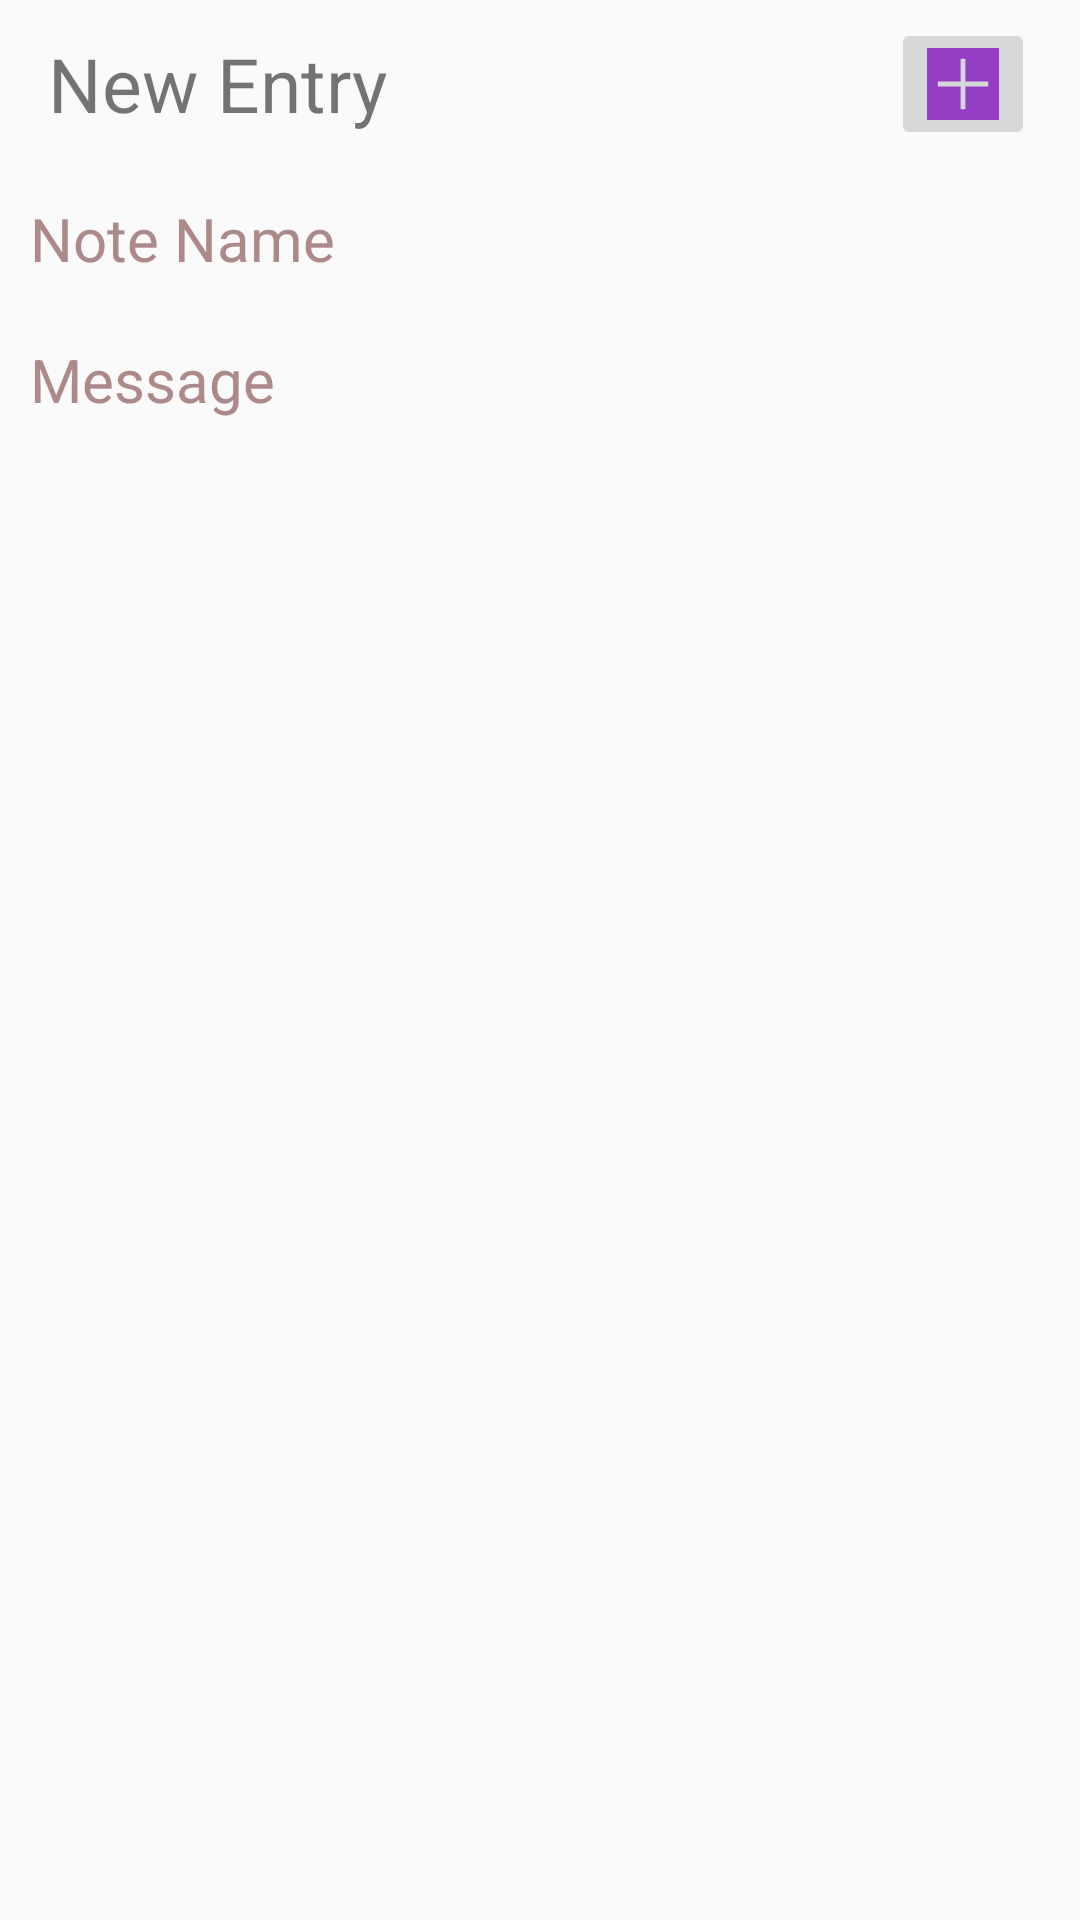

Icon bounding boxes for this 1080px×1920px phone screenshot, format (x1, y1, x2, y2):
Add Note: (903, 36, 1023, 132)
